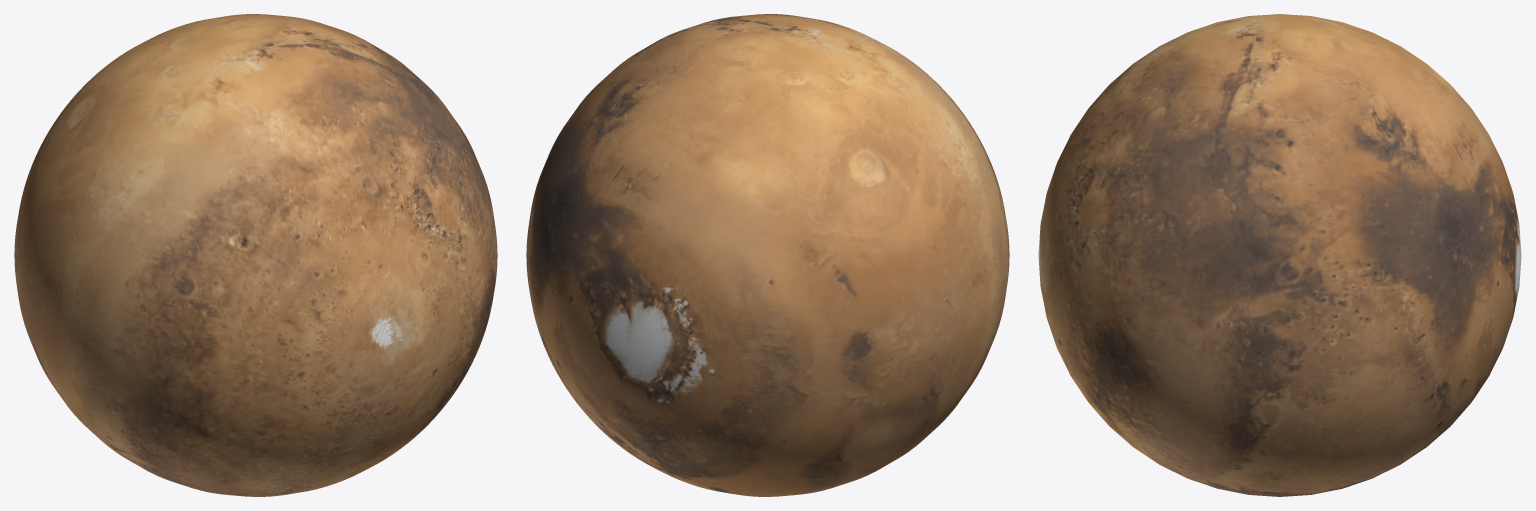
The model's file is mars.gltf.
The picture shows the model from 3 angles, left to right: view 1: azimuth 30°, elevation 25°; view 2: azimuth 150°, elevation 25°; view 3: azimuth 270°, elevation 25°; orthographic projection.
Parts seen in each view (by area): view 1: Sphere; view 2: Sphere; view 3: Sphere.
Part boxes in pixels (bbox=[...]): Sphere: bbox=[14, 14, 497, 496]; Sphere: bbox=[526, 14, 1009, 496]; Sphere: bbox=[1038, 14, 1521, 496].
Size of the model in its own units: 1 by 1 by 1.
1 material, 1 textured.
